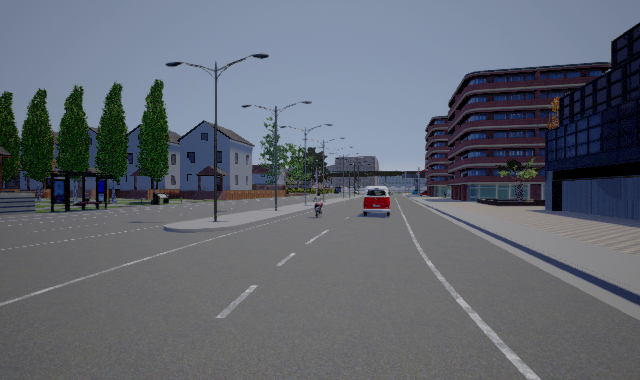bike: (313, 192, 324, 216)
vehicle: (363, 186, 391, 216)
